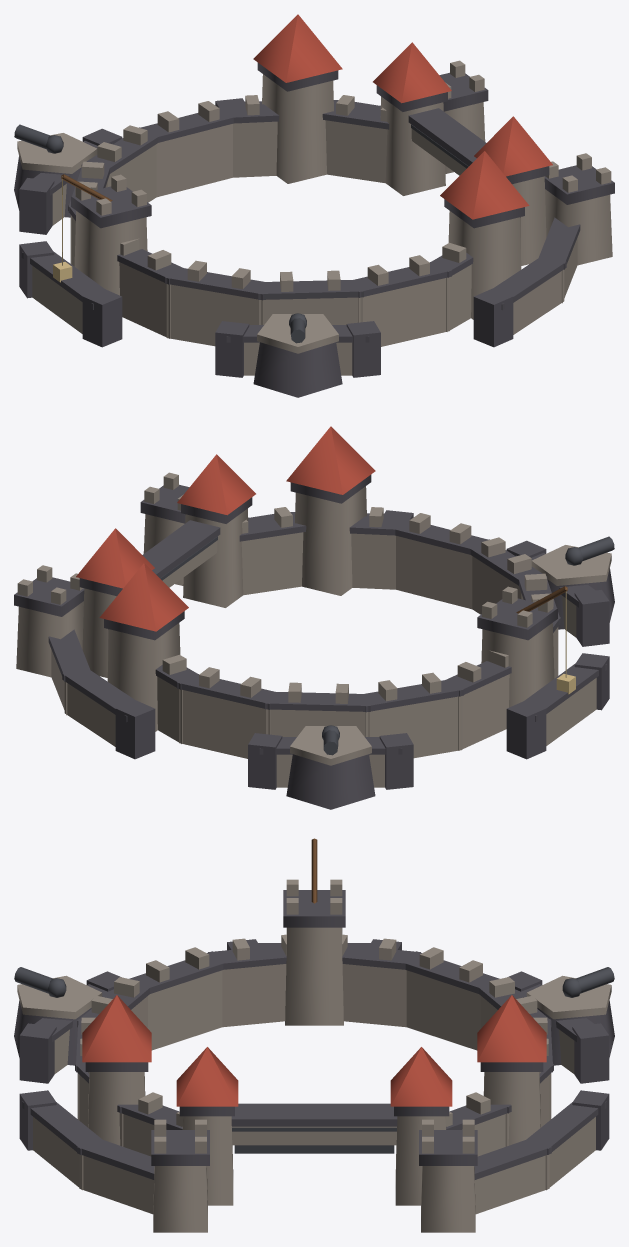
Rendered from base_builder_walls_3.glb.
3 renders of one model, top to bottom at view 1: azimuth 30°, elevation 25°; view 2: azimuth 150°, elevation 25°; view 3: azimuth 270°, elevation 25°, orthographic. The views are drawn at different scales.
Visible parts, largest first — view 1: tower_60_body, wall_9, wall_2, wall_7, tower_300_body, bastion_240, gate_tower_n_body, tower_180_body, wall_0, tower_60_roof, tower_300_roof, barbican_s_body (+44 smaller); view 2: tower_300_body, wall_2, wall_9, wall_4, tower_60_body, bastion_120, gate_tower_s_body, tower_180_body, wall_11, tower_300_roof, tower_60_roof, barbican_n_body (+44 smaller); view 3: tower_180_body, wall_4, wall_7, gate_arch_cap, wall_5, wall_6, barbican_n_body, barbican_s_body, tower_60_roof, tower_300_roof, tower_60_body, tower_300_body (+47 smaller).
Part boxes in pixels (<box>): tower_60_body: <box>262,74,333,183</box>; wall_9: <box>358,277,449,346</box>; wall_2: <box>156,124,232,197</box>; wall_7: <box>166,284,263,346</box>; tower_300_body: <box>448,211,521,319</box>; bastion_240: <box>253,342,342,397</box>; gate_tower_n_body: <box>380,96,445,195</box>; tower_180_body: <box>74,211,147,295</box>; wall_0: <box>325,120,387,183</box>; tower_60_roof: <box>253,14,342,82</box>; tower_300_roof: <box>440,151,529,219</box>; barbican_s_body: <box>545,189,612,265</box>; tower_300_body: <box>295,486,366,595</box>; wall_2: <box>179,689,270,758</box>; wall_9: <box>396,536,472,609</box>; wall_4: <box>365,696,462,758</box>; tower_60_body: <box>107,623,180,731</box>; bastion_120: <box>286,754,375,809</box>; gate_tower_s_body: <box>183,508,248,607</box>; tower_180_body: <box>481,623,554,707</box>; wall_11: <box>241,532,303,595</box>; tower_300_roof: <box>286,426,375,494</box>; tower_60_roof: <box>99,563,188,631</box>; barbican_n_body: <box>16,601,83,677</box>; tower_180_body: <box>285,927,343,1025</box>; wall_4: <box>406,970,480,1050</box>; wall_7: <box>148,970,222,1050</box>; gate_arch_cap: <box>231,1103,397,1126</box>; wall_5: <box>342,964,406,1027</box>; wall_6: <box>222,964,286,1027</box>; barbican_n_body: <box>421,1166,475,1232</box>; barbican_s_body: <box>153,1166,207,1232</box>; tower_60_roof: <box>477,995,546,1062</box>; tower_300_roof: <box>82,995,151,1062</box>; tower_60_body: <box>483,1072,540,1145</box>; tower_300_body: <box>88,1072,145,1145</box>.
Size of the model in its own units: 1.19 by 0.3628 by 1.21.
